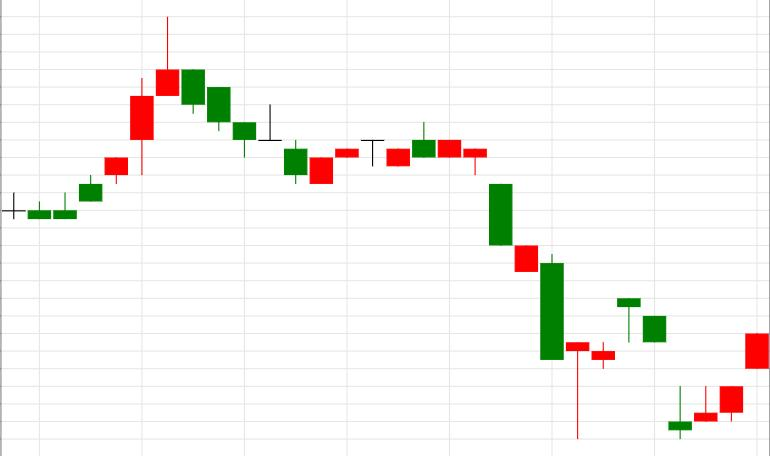shooting_star_fall: (79, 16, 179, 201)
